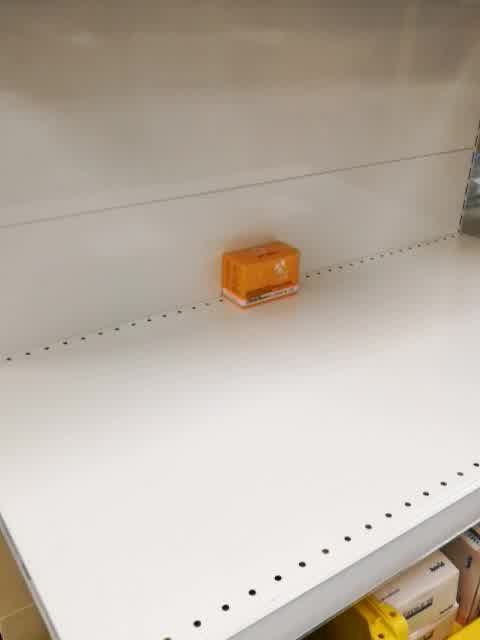jasminetea: (219, 241, 301, 311)
